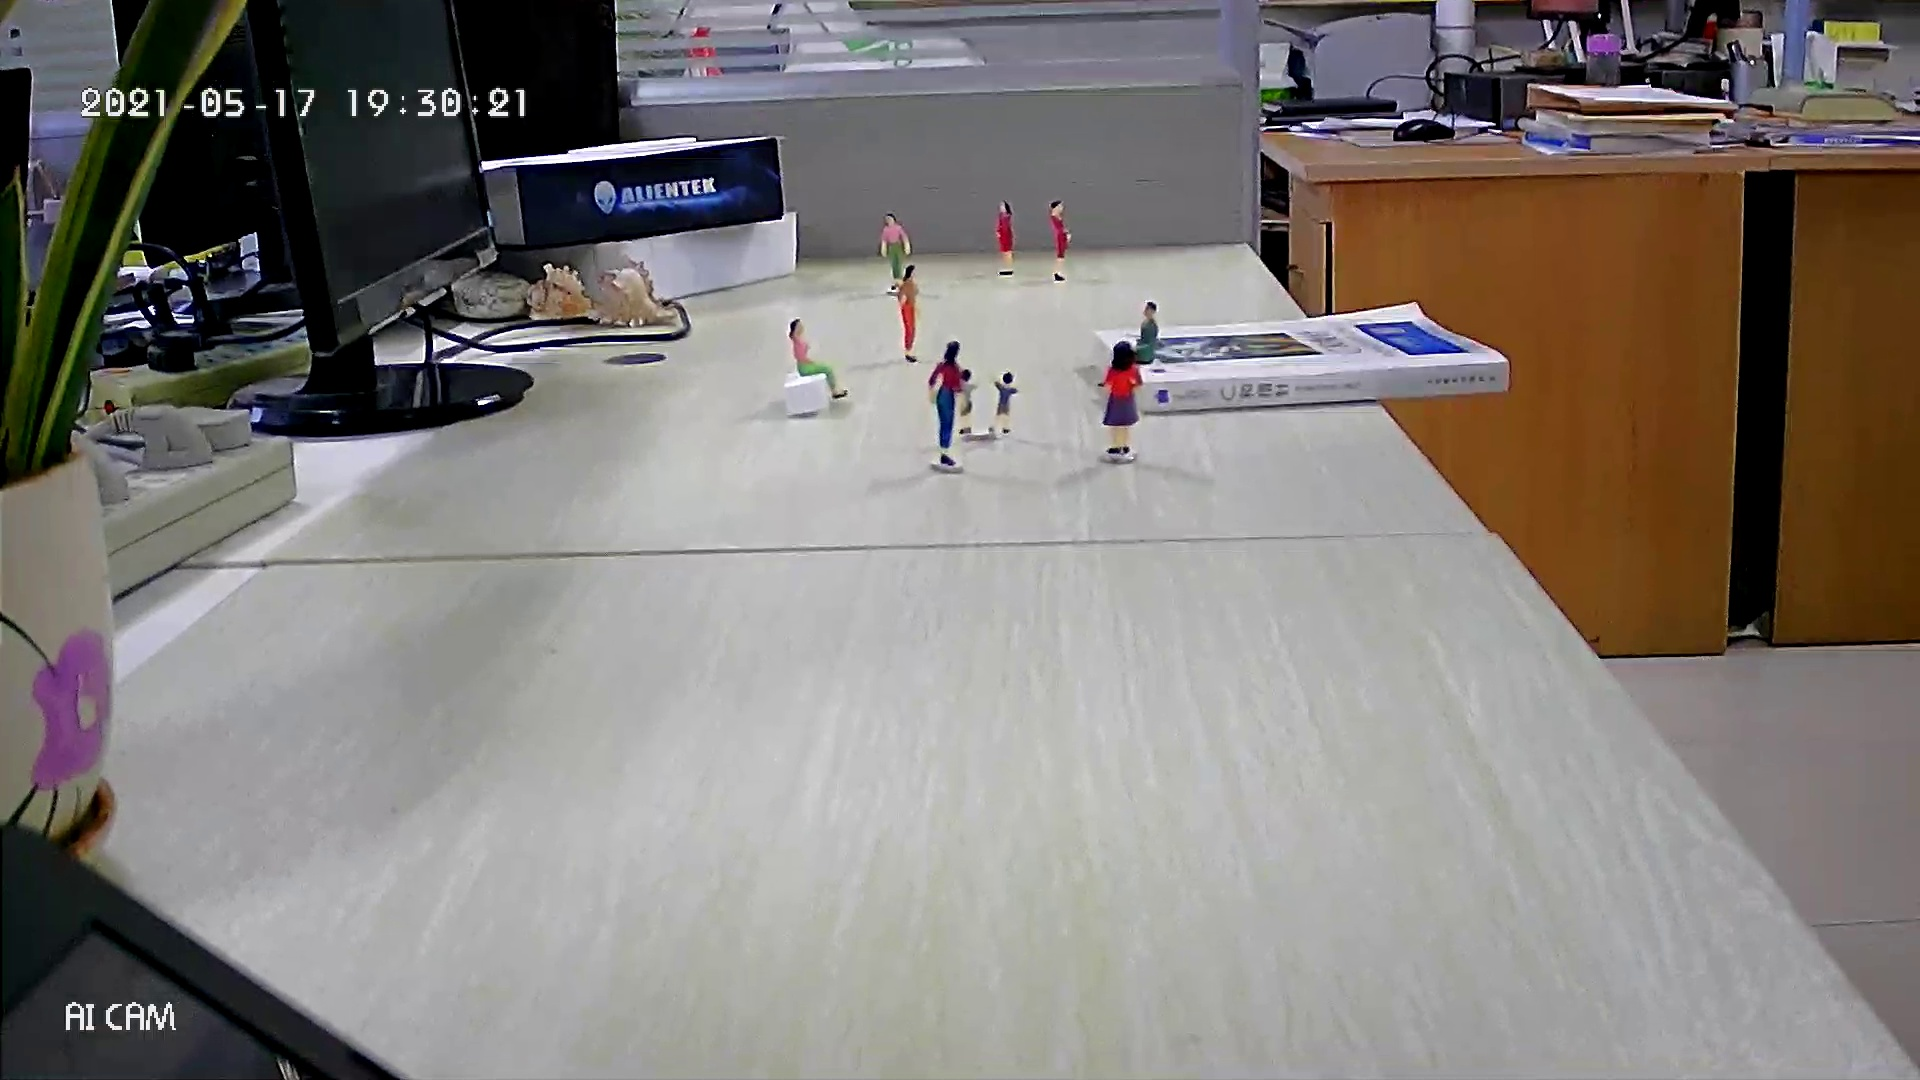person: (1094, 301, 1159, 388), (788, 319, 850, 402), (1102, 341, 1145, 455), (928, 340, 963, 468), (878, 211, 912, 292), (985, 369, 1021, 438), (897, 264, 921, 365), (1048, 199, 1072, 282), (993, 198, 1016, 277), (956, 368, 980, 436)
